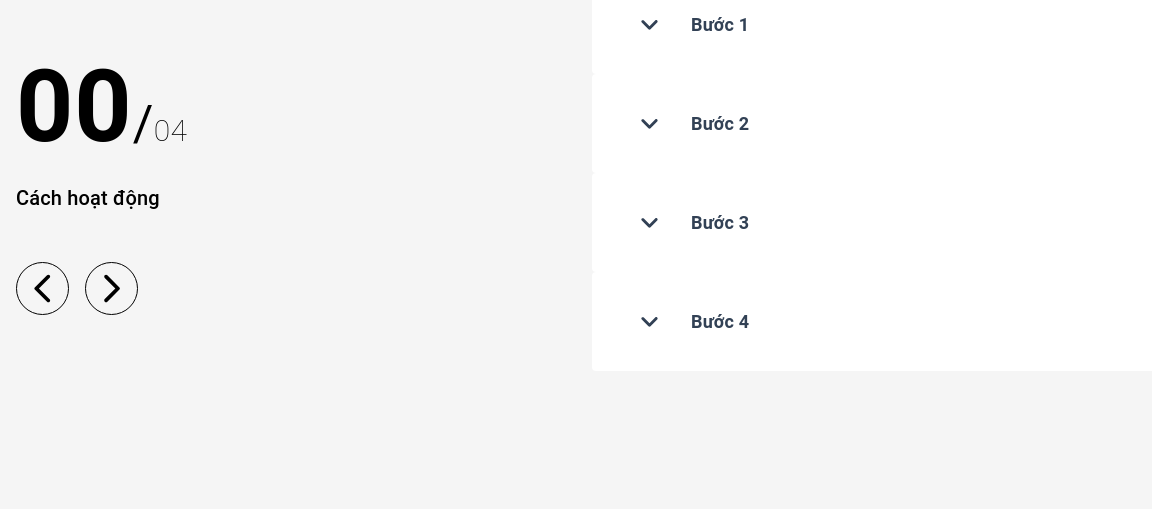
it: Guide Component › Navigation › cycles through steps on next click
Step 1. Click the 5th button → x=112, y=288, box x1=85 y1=262 x2=138 y2=314
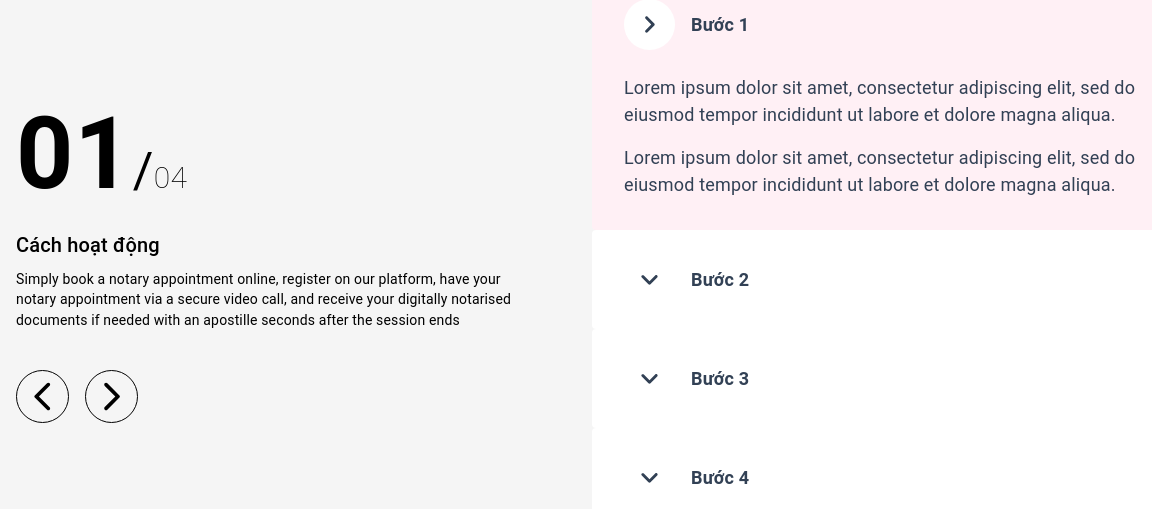
Expected: the text "01" is shown, x1=16 y1=96 x2=133 y2=212
Step 2. Click the 5th button → x=112, y=396, box x1=85 y1=370 x2=138 y2=422
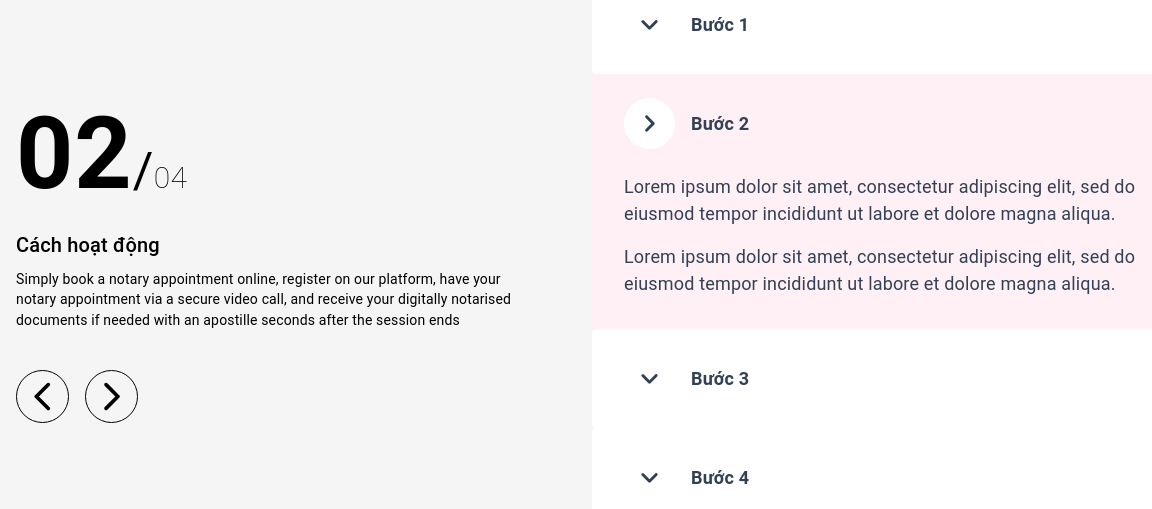
Expected: the text "02" is shown, x1=16 y1=96 x2=133 y2=212
Step 3. Click the 5th button → x=112, y=396, box x1=85 y1=370 x2=138 y2=422
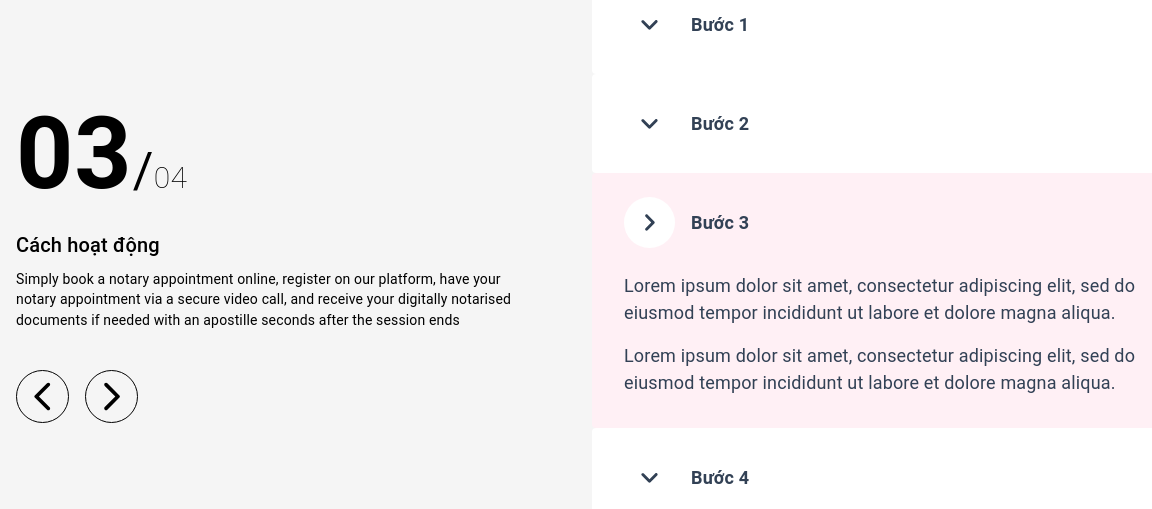
Expected: the text "03" is shown, x1=16 y1=96 x2=133 y2=212
Step 4. Click the 5th button → x=112, y=396, box x1=85 y1=370 x2=138 y2=422
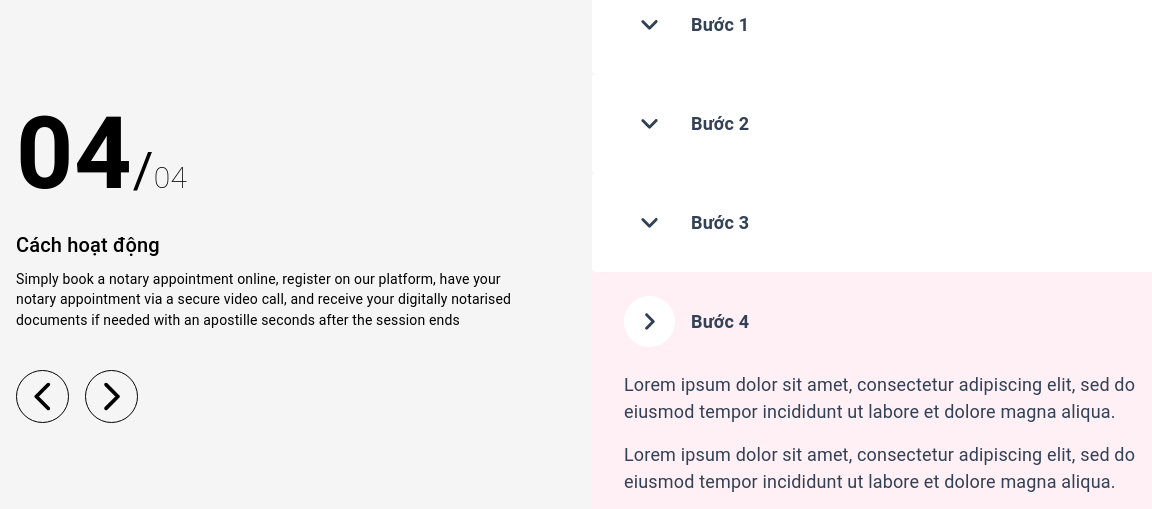
Expected: the 1st text "04" is shown, x1=16 y1=96 x2=133 y2=212
